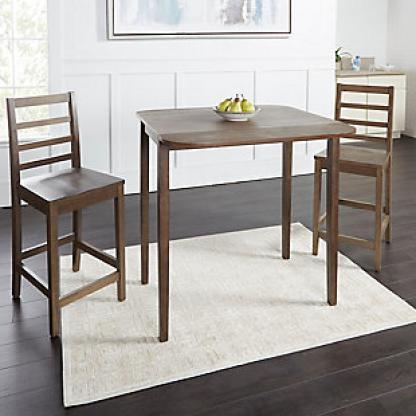chair: (0, 79, 131, 344), (311, 73, 399, 269)
